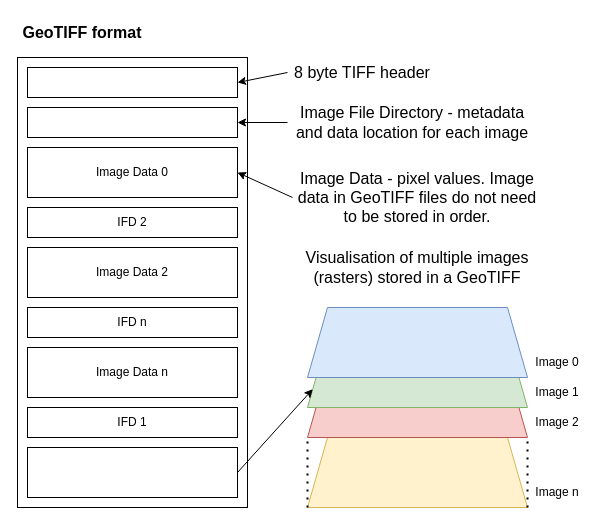
Image size: 605x526. Some labels were removed from this diagram. The shapes that lost their labels are listed below. From the top down, each one's centre as x and y in pixels, then its label:
(132,82): TIFF Header
(132,122): IFD 0
(132,472): Image Data 1
